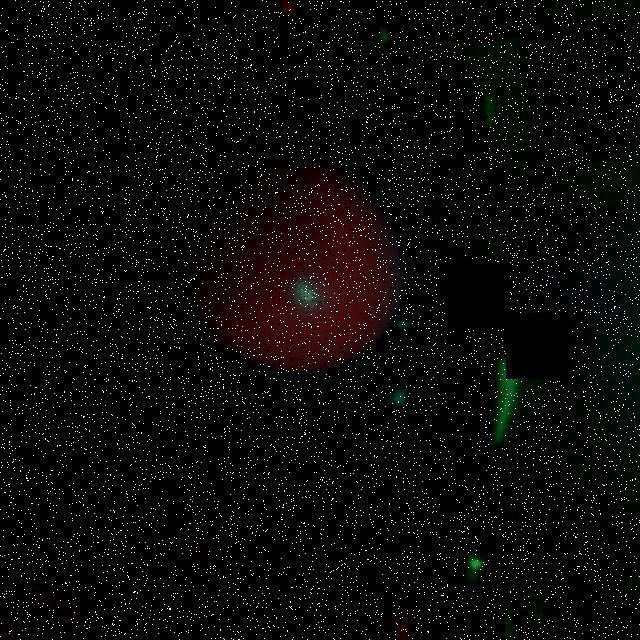egg: (176, 148, 412, 376)
